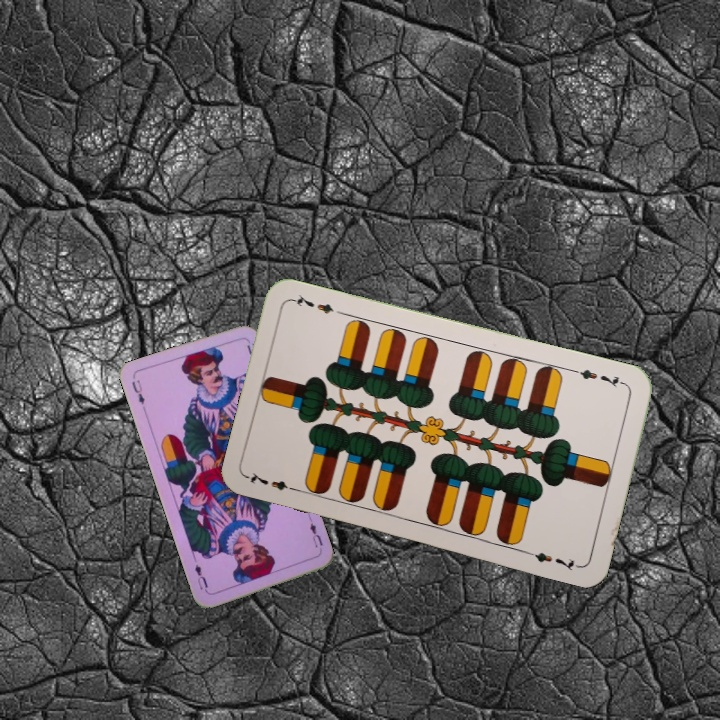E7: (244, 468, 303, 495), (570, 365, 629, 390)
EU: (305, 515, 325, 555), (127, 375, 147, 407)
